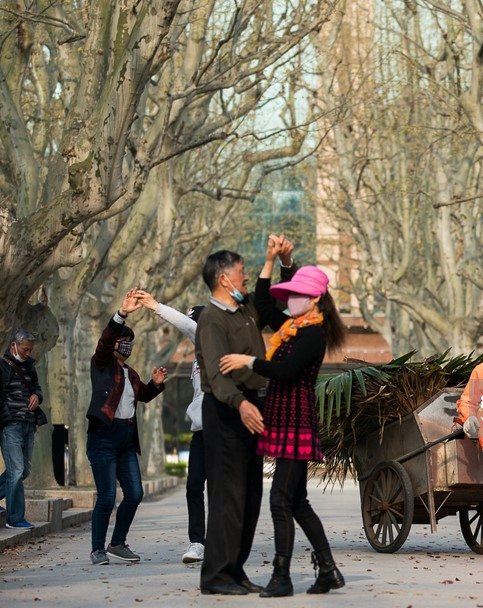face_with_mask: (278, 263, 332, 323), (204, 250, 252, 311), (8, 327, 36, 369), (9, 331, 34, 365), (113, 331, 135, 364)
